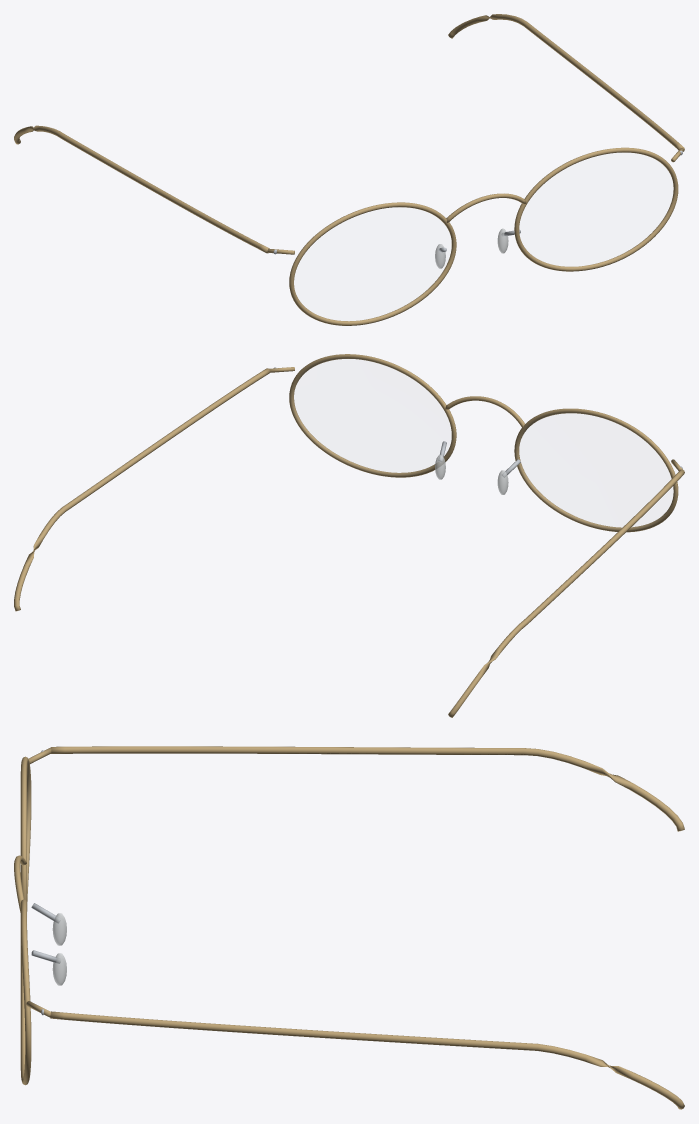
Rendered from tim-02-v1.glb.
The picture shows the model from 3 angles, top to bottom: view 1: azimuth 30°, elevation 25°; view 2: azimuth 150°, elevation 25°; view 3: azimuth 270°, elevation 25°; orthographic projection. The views are drawn at different scales.
Parts seen in each view (by area): view 1: rim_right, rim_left, temple_right, temple_left; view 2: rim_left, rim_right, temple_left, temple_right; view 3: temple_right, temple_left, rim_left, rim_right.
Boxes of the visible parts, x1,y1,x2,y2 form: rim_right: (289,202,456,325); rim_left: (514,147,678,271); temple_right: (14,125,269,253); temple_left: (448,14,684,150); rim_left: (289,354,456,477); rim_right: (514,408,678,532); temple_left: (14,368,270,611); temple_right: (448,469,684,717); temple_right: (50,746,684,831); temple_left: (50,1011,684,1109); rim_left: (20,899,31,1085); rim_right: (20,756,31,911).
Bounding box in the file's own units: 0.1567 × 0.0375 × 0.149.
